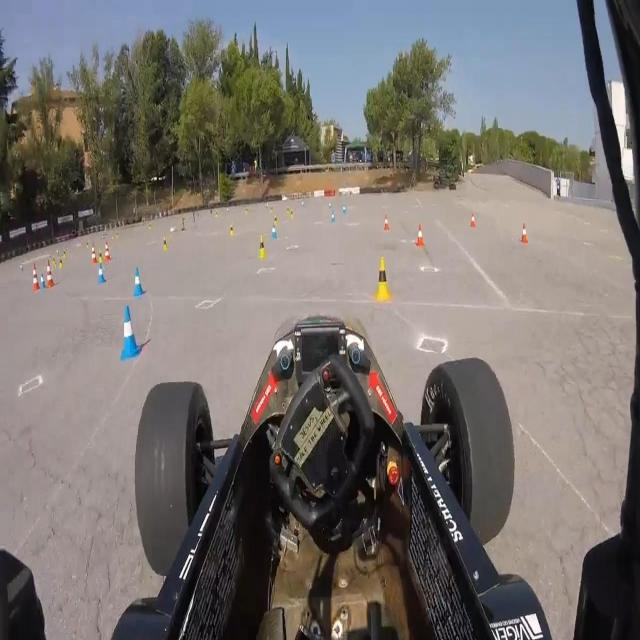blue_cone: (120, 306, 140, 365), (133, 265, 145, 298), (98, 262, 106, 285), (272, 222, 278, 240), (40, 273, 45, 289), (330, 209, 335, 223), (342, 203, 347, 216)
large_orange_cone: (30, 263, 40, 294), (46, 260, 54, 290), (104, 242, 112, 264), (90, 243, 96, 264)
orange_cone: (415, 224, 425, 250), (520, 224, 529, 243), (382, 215, 390, 232), (470, 210, 476, 230)
yellow_cone: (374, 257, 392, 302), (258, 235, 267, 260), (230, 222, 236, 238), (162, 238, 168, 252), (98, 249, 104, 263), (274, 214, 278, 227), (290, 209, 294, 221), (286, 205, 290, 217), (63, 249, 67, 261), (52, 257, 56, 268), (59, 260, 63, 270)
